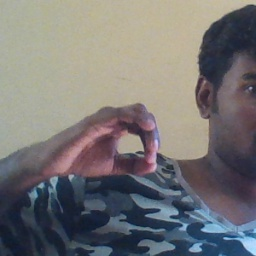O: (47, 103, 162, 182)
